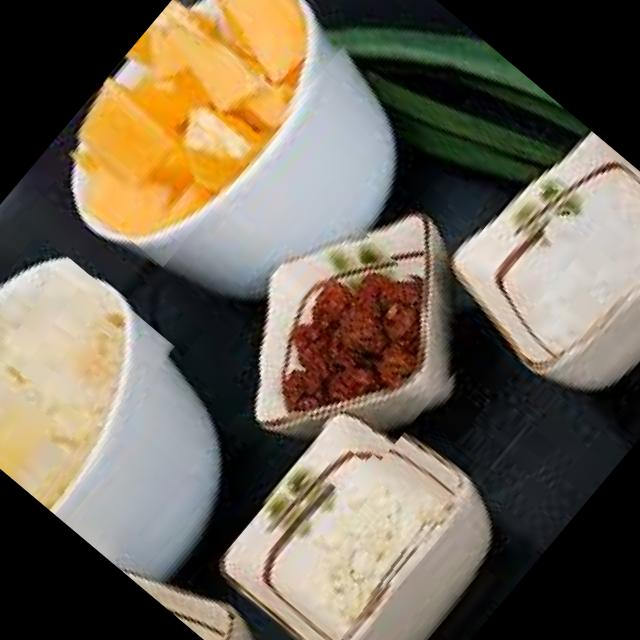Organic: (36, 0, 360, 266), (243, 224, 487, 469), (0, 231, 189, 516), (270, 452, 450, 640)
